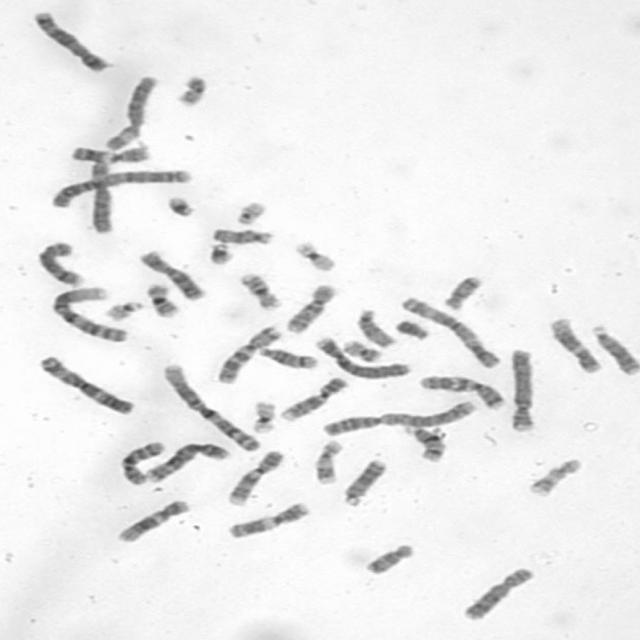A1: (162, 364, 259, 449), (47, 286, 132, 344)
A2: (49, 168, 198, 215), (316, 402, 483, 436)
A3: (394, 296, 503, 370), (32, 355, 138, 415)
B4: (305, 337, 417, 383), (497, 345, 540, 440)
B5: (29, 8, 112, 74), (142, 442, 231, 484)
C10: (279, 280, 339, 337), (114, 441, 170, 486)
C11: (221, 501, 315, 539), (64, 143, 154, 167)
C12: (114, 498, 190, 544), (544, 316, 604, 374)
C6: (104, 76, 160, 150), (86, 161, 119, 235)
C7: (212, 321, 285, 386), (411, 372, 506, 414)
C8: (461, 566, 534, 621), (34, 239, 85, 288)
C9: (275, 373, 352, 427), (223, 448, 288, 506)
D13: (586, 322, 639, 378), (337, 457, 389, 506)
D14: (403, 424, 446, 464), (254, 345, 320, 371)
D15: (353, 306, 400, 349), (207, 227, 275, 247)
E16: (235, 271, 282, 311), (143, 282, 182, 320)
E17: (524, 457, 584, 496), (309, 437, 345, 486)
E18: (358, 542, 417, 574), (438, 273, 484, 310)
F19: (292, 240, 338, 274), (249, 400, 277, 436)
F20: (174, 73, 210, 107), (341, 338, 385, 364)
G21: (202, 240, 234, 266), (162, 194, 196, 218)
G22: (102, 299, 145, 321), (233, 200, 266, 226)
X: (138, 248, 206, 304)
Y: (392, 318, 431, 340)
